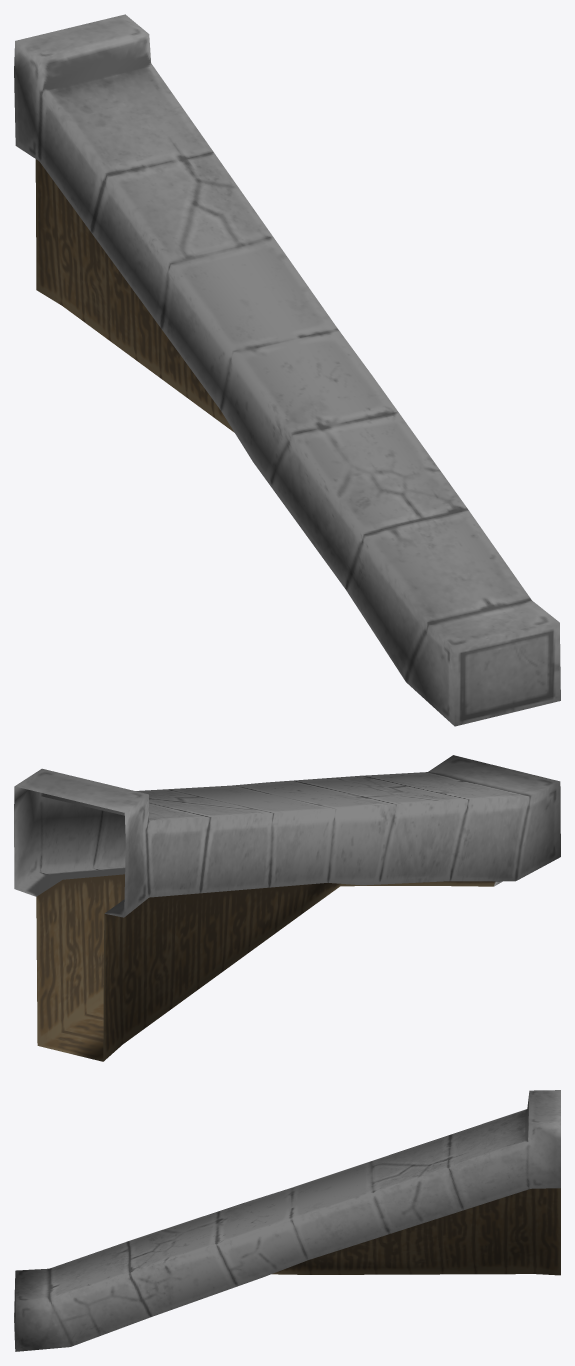
File: RoofEnd_LP.fbx
3 views of the same model, one above another, from view 1: azimuth 30°, elevation 25°; view 2: azimuth 150°, elevation 25°; view 3: azimuth 270°, elevation 25° (orthographic). The views are drawn at different scales.
Visible parts, largest first — view 1: RoofEnd_LP; view 2: RoofEnd_LP; view 3: RoofEnd_LP.
Boxes of the visible parts, x1=… form: RoofEnd_LP: x1=14, y1=14, x2=560, y2=726; RoofEnd_LP: x1=14, y1=755, x2=560, y2=1061; RoofEnd_LP: x1=14, y1=1090, x2=560, y2=1351.
Size of the model in its own units: 27.03 by 85.97 by 183.
Materials: 1 (1 with a texture image).
